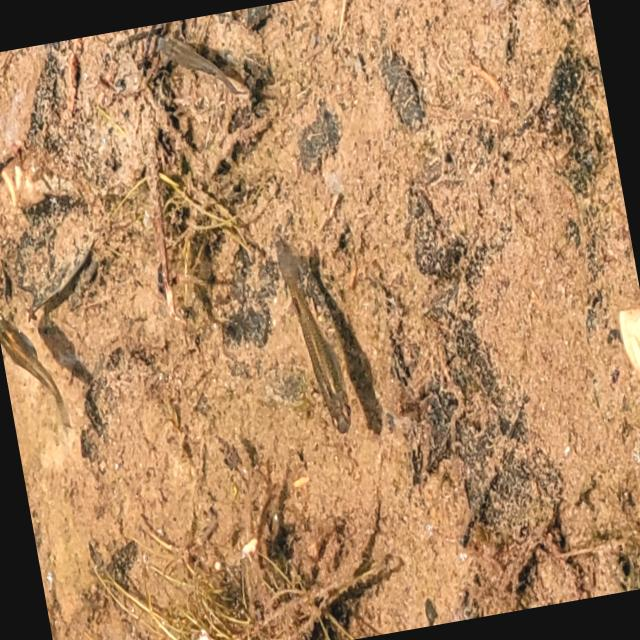Sivrisinek Baligi: (0, 228, 74, 442), (278, 241, 356, 441), (142, 11, 249, 114)
